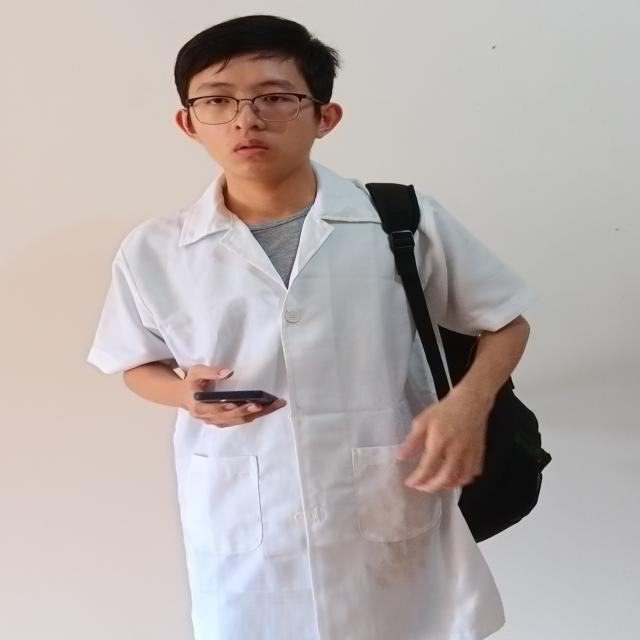person_with_labcoat: (88, 15, 550, 640)
